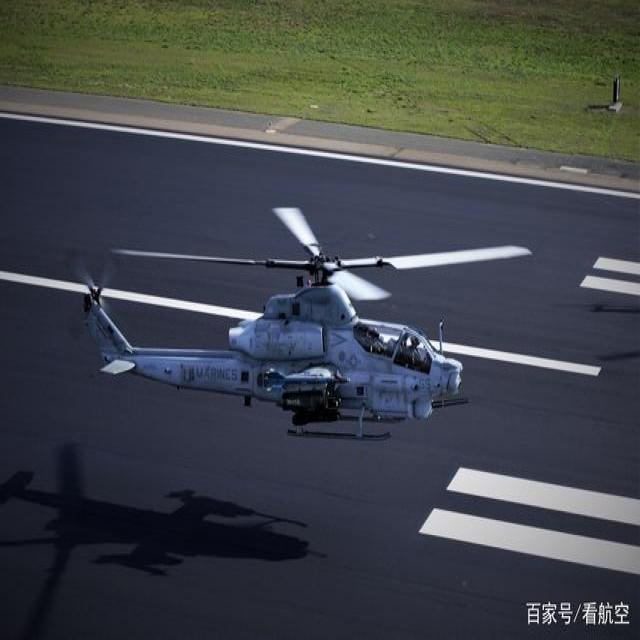MIL_HELO: (67, 204, 474, 454)
